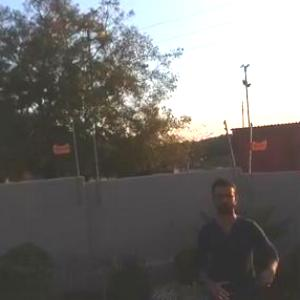follow: (184, 173, 285, 299)
